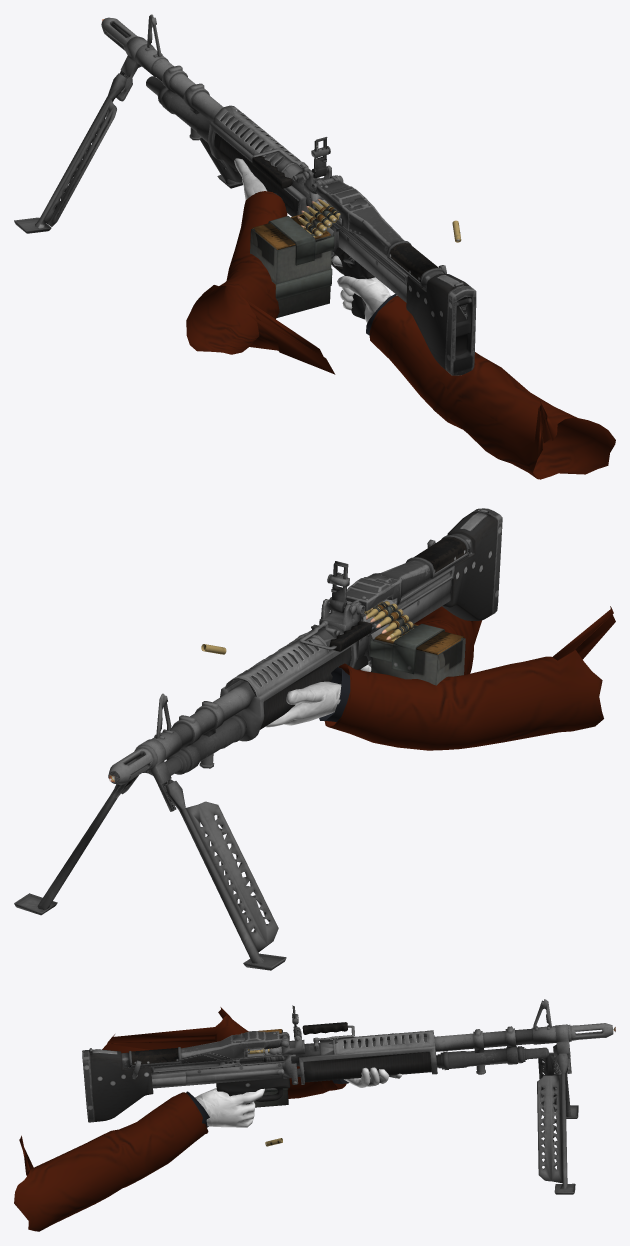
File: frame_23.obj
3 renders of one model, top to bottom at view 1: azimuth 30°, elevation 25°; view 2: azimuth 150°, elevation 25°; view 3: azimuth 270°, elevation 25°, orthographic. The views are drawn at different scales.
Parts seen in each view (by area): view 1: Mesh.005, PlayerModelMerged.001_PlayerModelMerged, Mesh.001; view 2: Mesh.005, PlayerModelMerged.001_PlayerModelMerged, Mesh.001; view 3: Mesh.005, PlayerModelMerged.001_PlayerModelMerged.
Boxes of the visible parts, left/top/right/bottom form: Mesh.005: left=14, top=14, right=476, bottom=375; PlayerModelMerged.001_PlayerModelMerged: left=186, top=158, right=615, bottom=479; Mesh.001: left=297, top=199, right=340, bottom=237; Mesh.005: left=14, top=508, right=502, bottom=970; PlayerModelMerged.001_PlayerModelMerged: left=265, top=606, right=615, bottom=750; Mesh.001: left=366, top=601, right=413, bottom=639; Mesh.005: left=82, top=999, right=613, bottom=1194; PlayerModelMerged.001_PlayerModelMerged: left=14, top=1007, right=402, bottom=1231.
Bounding box in the file's own units: 0.9933 × 0.7614 × 2.15.
